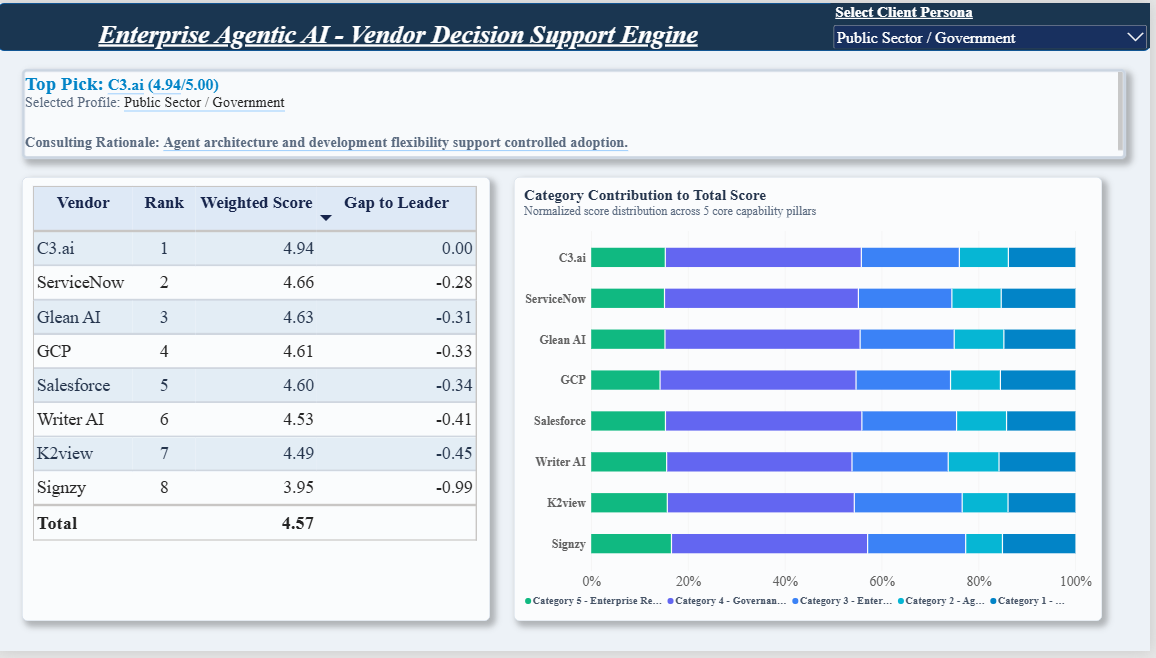

What the dashboard file says about the page in this screenshot:
{"tool":"powerbi","page":{"name":"Page 1","canvas":[1920,1080],"ordinal":0},"visuals":[{"type":"tableEx","fields":{"Values":["vendors.vendor_name","_Measures.Vendor Rank","_Measures.Total Weighted Score","_Measures.Score Delta to Leader"]},"box":[25,287.5,842.5,507.5],"z":0},{"type":"textbox","box":[0,100,1257.5,172.5],"z":1000},{"type":"hundredPercentStackedBarChart","title":"Category Contribution to Total Score","fields":{"Category":["vendors.vendor_name"],"Series":["categories.category_name"],"Y":["_Measures.Total Weighted Score"]},"box":[910,287.5,982.5,555],"z":2000},{"type":"shape","box":[0,0,1445,100],"z":3000},{"type":"textbox","box":[175,27.5,1337.5,72.5],"z":4000},{"type":"slicer","fields":{"Values":["personas.persona_name"]},"box":[1387.5,0,532.5,100],"z":5000}]}

Visuals, with their boxes in screenshot pixels (x1, y1, x2, y2), scaled from the page's 1920x1080 canvas onto the 1156x658 screenshot:
tableEx - vendors.vendor_name x _Measures.Vendor Rank: region(15, 175, 522, 484)
textbox: region(0, 61, 757, 166)
"Category Contribution to Total Score" hundredPercentStackedBarChart: region(548, 175, 1139, 513)
shape: region(0, 0, 870, 61)
textbox: region(105, 17, 911, 61)
slicer - personas.persona_name: region(835, 0, 1155, 61)
